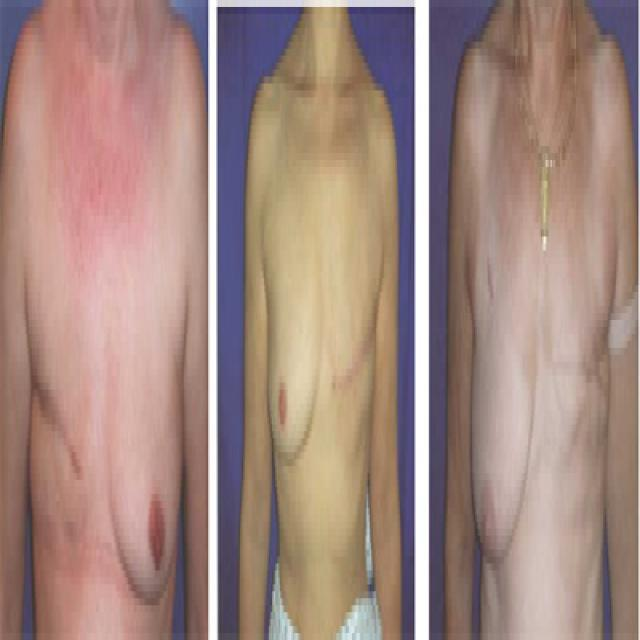Seno herido: (24, 293, 100, 574), (544, 244, 614, 500), (327, 233, 383, 455)
Seno ileso: (104, 292, 184, 633), (468, 244, 541, 594), (265, 234, 324, 491)
